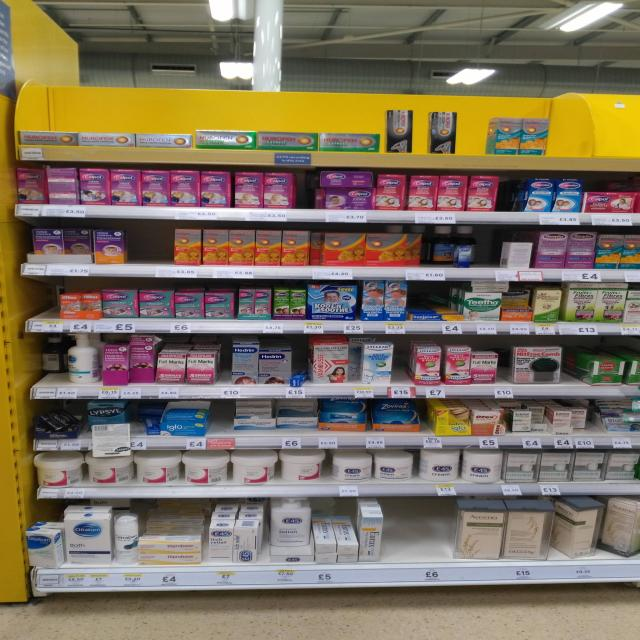void: (394, 507, 453, 561), (130, 222, 170, 266), (555, 111, 588, 156), (462, 110, 491, 154), (29, 284, 58, 318)
